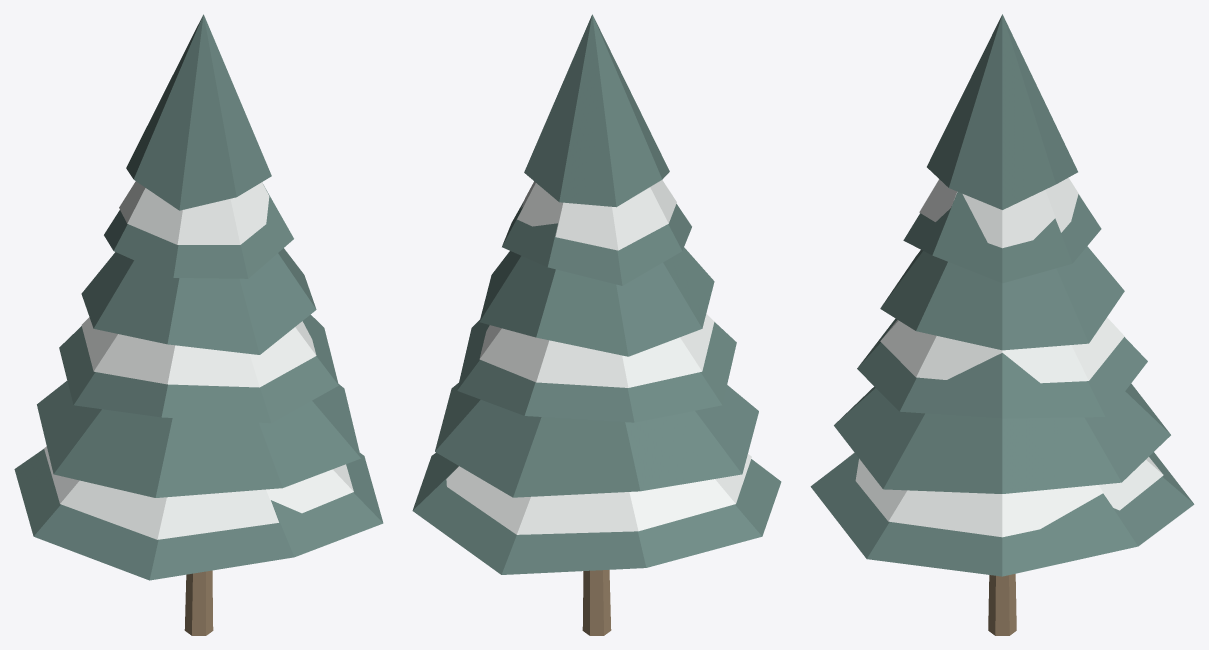
The picture shows the model from 3 angles, left to right: view 1: azimuth 30°, elevation 25°; view 2: azimuth 150°, elevation 25°; view 3: azimuth 270°, elevation 25°; orthographic projection.
Bounding box in the file's own units: 8.6 × 15.29 × 8.6.
